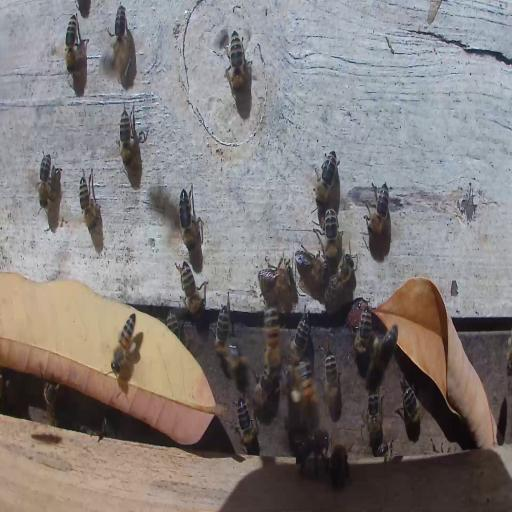bee: (363, 321, 399, 391), (290, 357, 318, 431), (325, 248, 356, 310), (108, 310, 137, 375), (292, 243, 328, 290), (312, 148, 339, 208), (176, 260, 204, 316), (365, 180, 391, 236), (178, 186, 202, 246), (296, 428, 330, 470), (79, 167, 100, 234), (258, 255, 292, 294), (322, 350, 342, 416), (236, 395, 258, 455), (400, 378, 421, 439), (263, 304, 280, 378), (352, 300, 372, 361), (227, 30, 246, 94), (326, 438, 350, 488), (320, 206, 340, 264), (212, 298, 230, 361), (109, 4, 128, 62), (118, 106, 135, 170), (290, 313, 310, 360), (254, 368, 276, 410), (38, 150, 52, 212), (366, 392, 382, 446), (65, 13, 77, 75), (44, 380, 60, 423), (166, 306, 182, 346), (375, 440, 397, 458)
